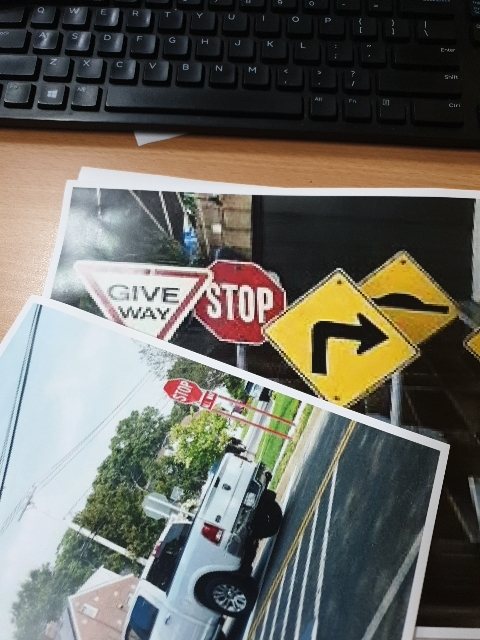giveway: (72, 254, 215, 355)
right: (265, 277, 421, 394)
stop: (200, 261, 288, 358)
